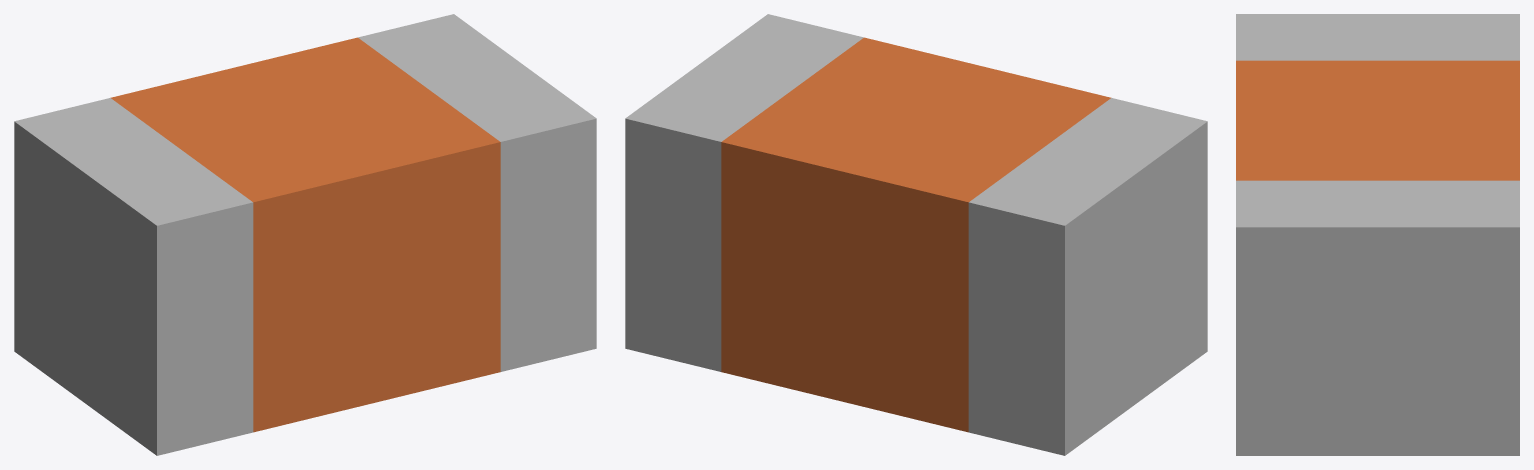
3 views of the same model, side by side, from view 1: azimuth 30°, elevation 25°; view 2: azimuth 150°, elevation 25°; view 3: azimuth 270°, elevation 25° (orthographic).
Visible parts, largest first — view 1: Solid001, Solid, Solid002; view 2: Solid001, Solid, Solid002; view 3: Solid002, Solid001, Solid.
Boxes of the visible parts, x1,y1,x2,y2 form: Solid001: (110, 37, 500, 432); Solid: (14, 98, 253, 455); Solid002: (358, 14, 596, 371); Solid001: (721, 37, 1111, 432); Solid: (968, 98, 1207, 455); Solid002: (625, 14, 863, 371); Solid002: (1236, 180, 1519, 455); Solid001: (1236, 60, 1519, 180); Solid: (1236, 14, 1519, 60).
Bounding box in the file's own units: 1.6 × 0.8 × 0.9.
